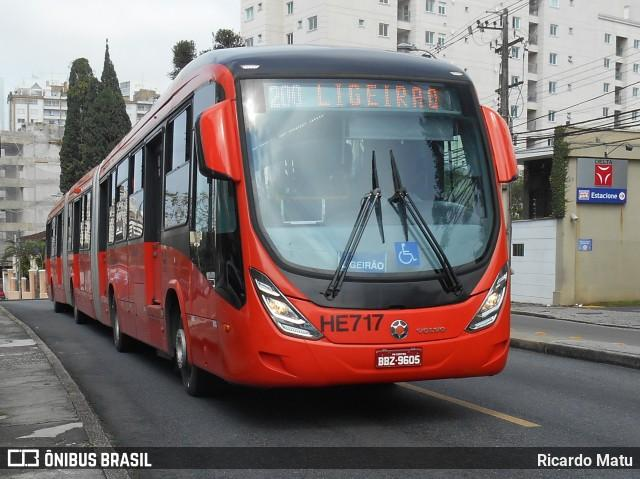LIGEIRAO: (311, 80, 442, 114)
